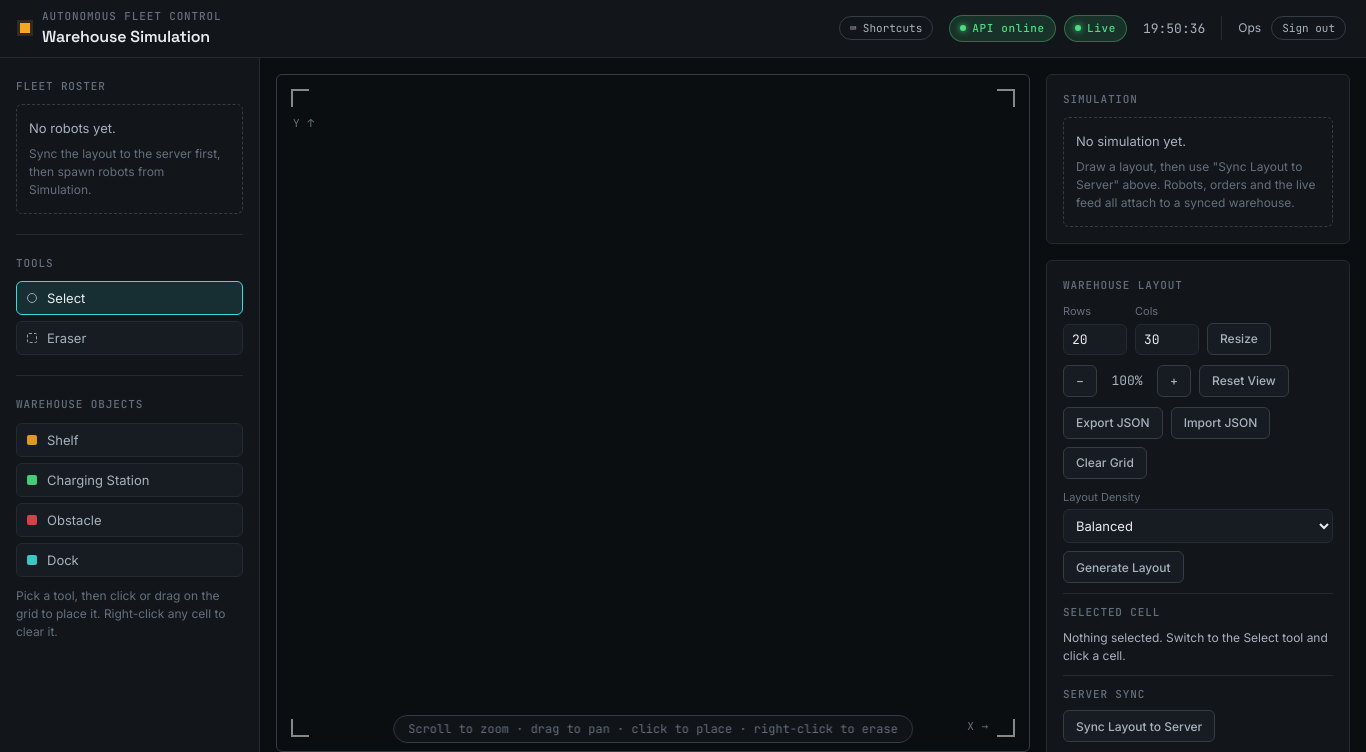
Test case: simulation start, updates and stop › stops the simulation
The image size is (1366, 752).
Click the button "Sync Layout to Server": [1139, 726] box [1063,710,1215,742]
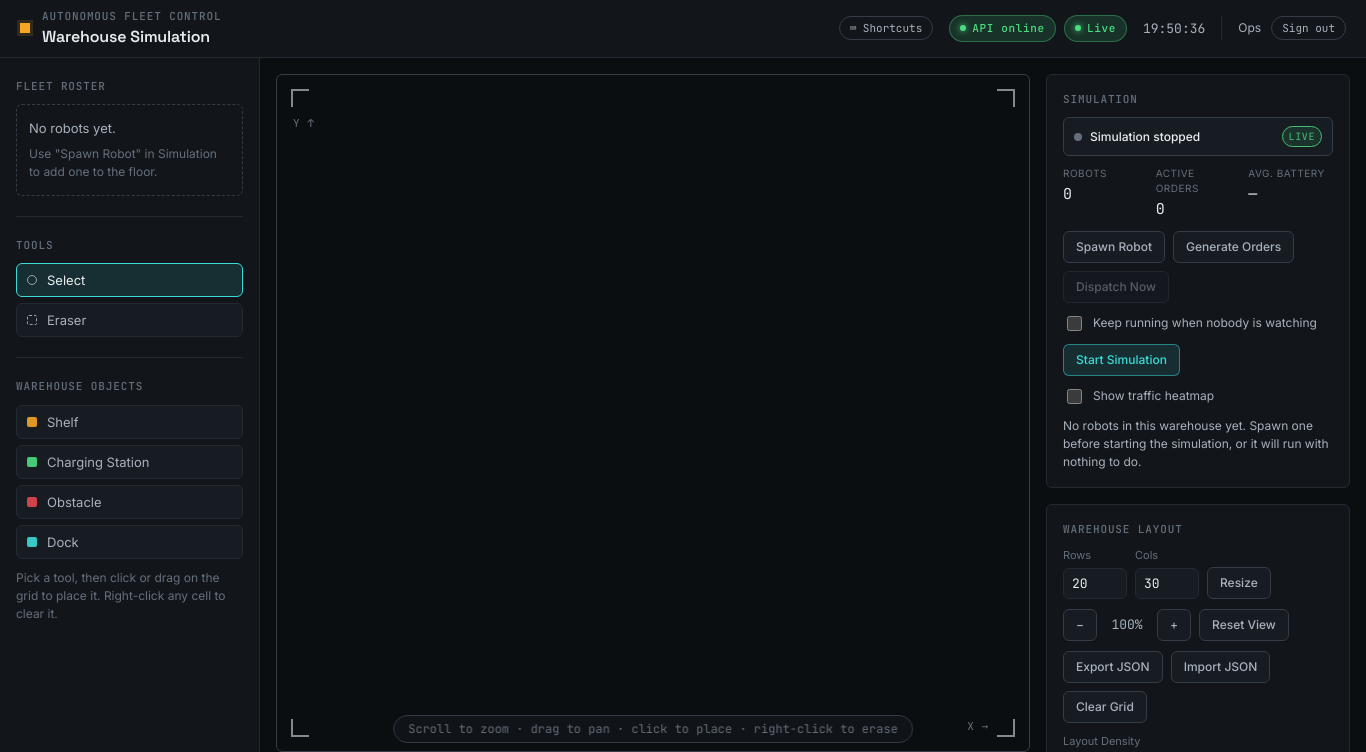
Click the button "Start Simulation": [1121, 360] box [1063,344,1180,376]
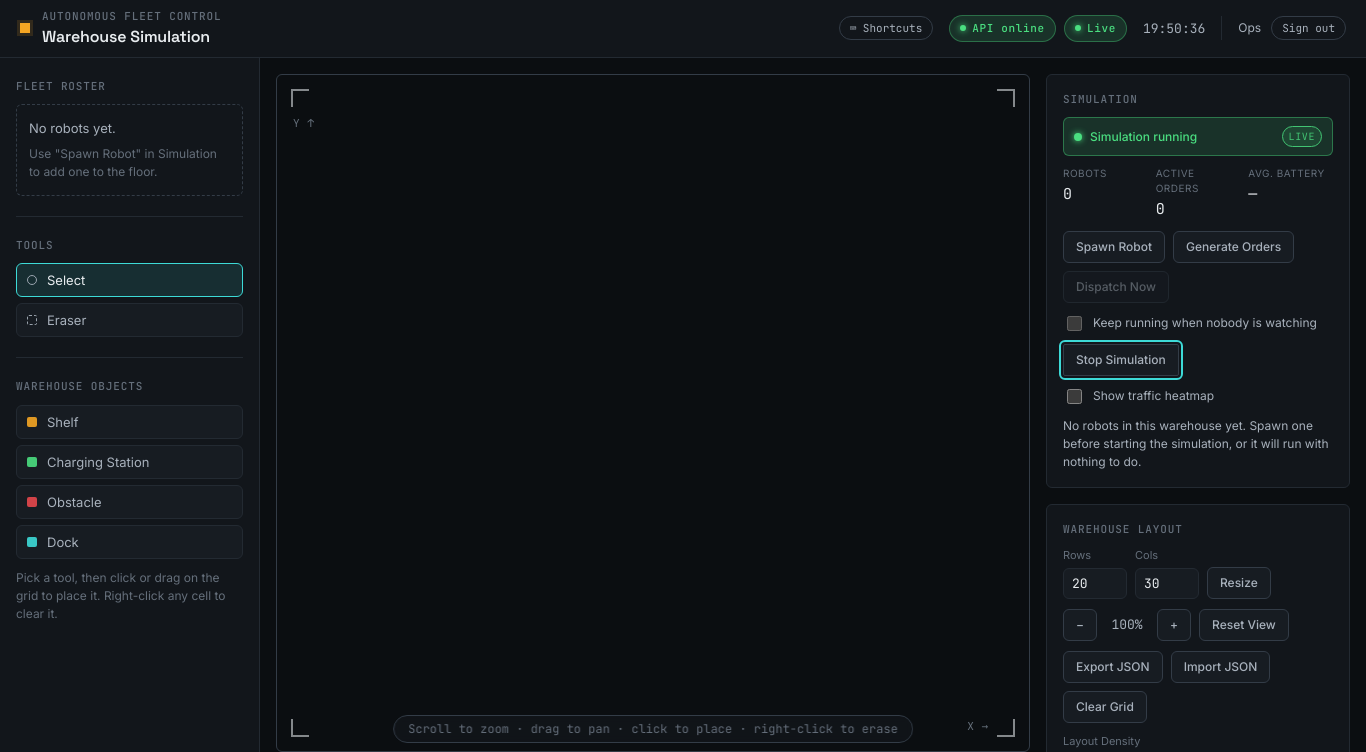
Click the button "Stop Simulation": [1121, 360] box [1063,344,1179,376]
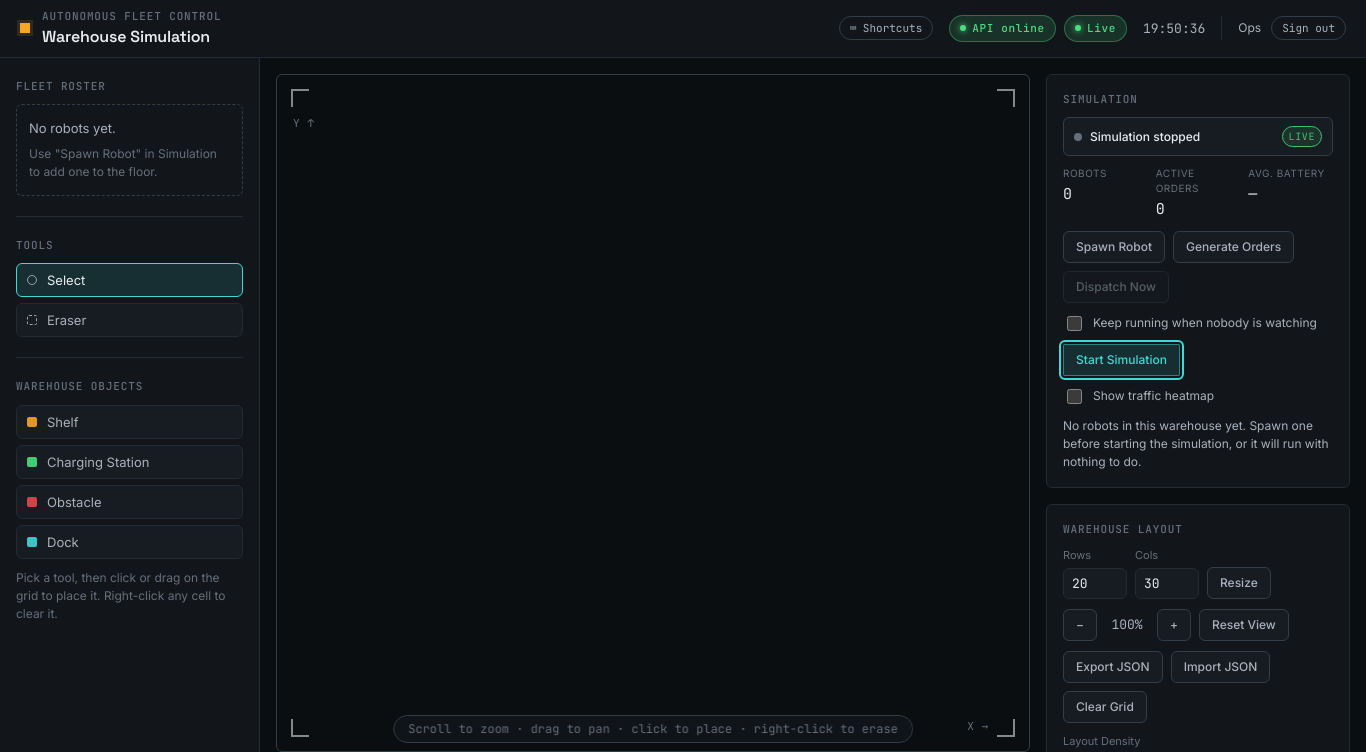
Now the text "Simulation stopped" is shown, box [1090,128,1200,144]
